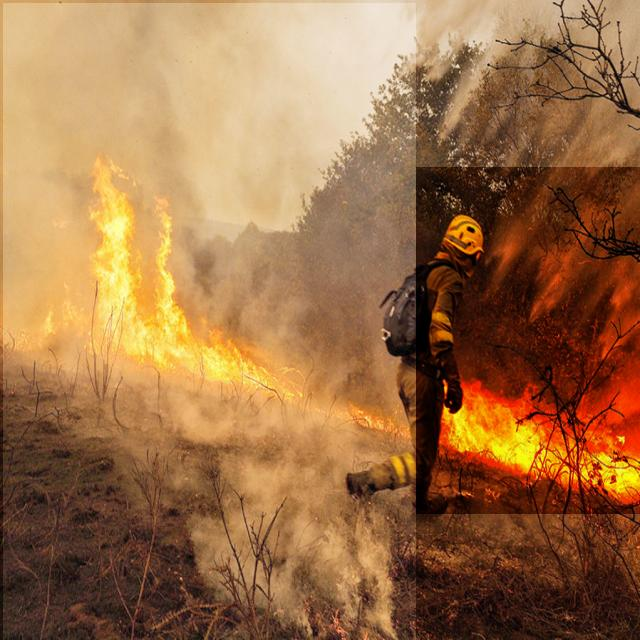Fire: (42, 167, 640, 514)
Smoke: (3, 3, 416, 640)
